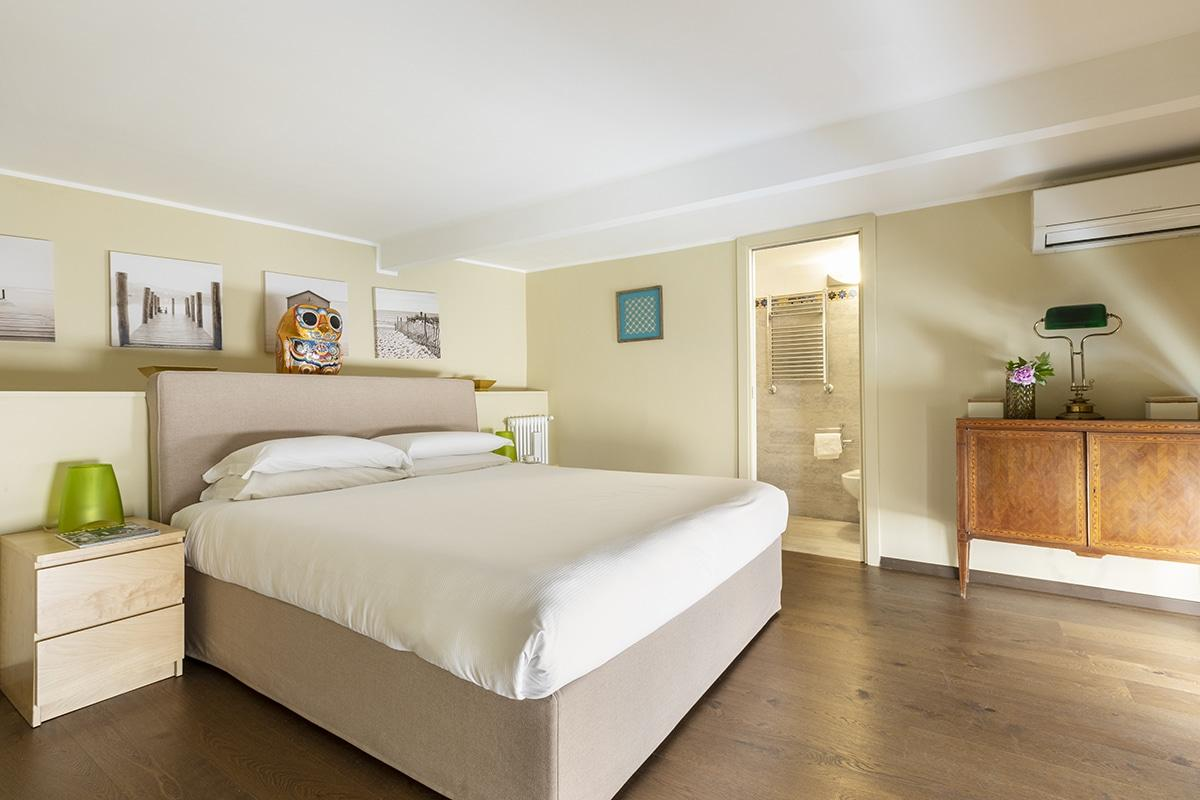bed: (108, 294, 738, 718)
